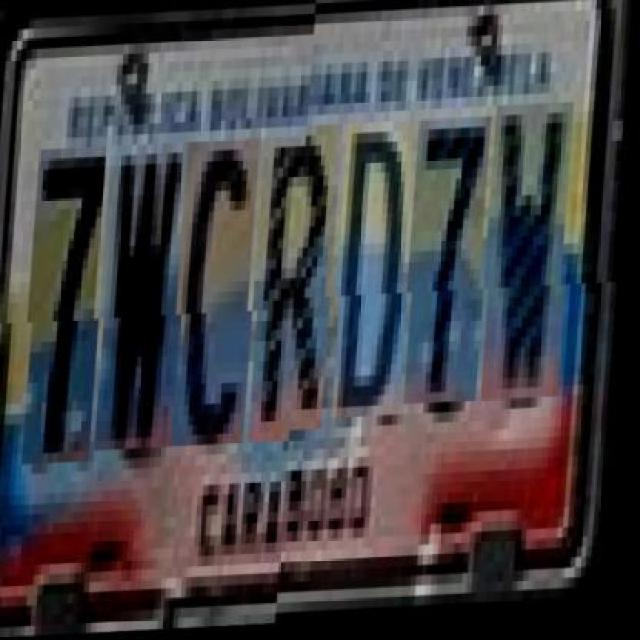7: (29, 147, 114, 465), (410, 132, 498, 419)
c: (178, 142, 267, 449)
d: (337, 136, 421, 432)
r: (254, 139, 344, 446)
w: (101, 144, 196, 451), (487, 118, 581, 416)
